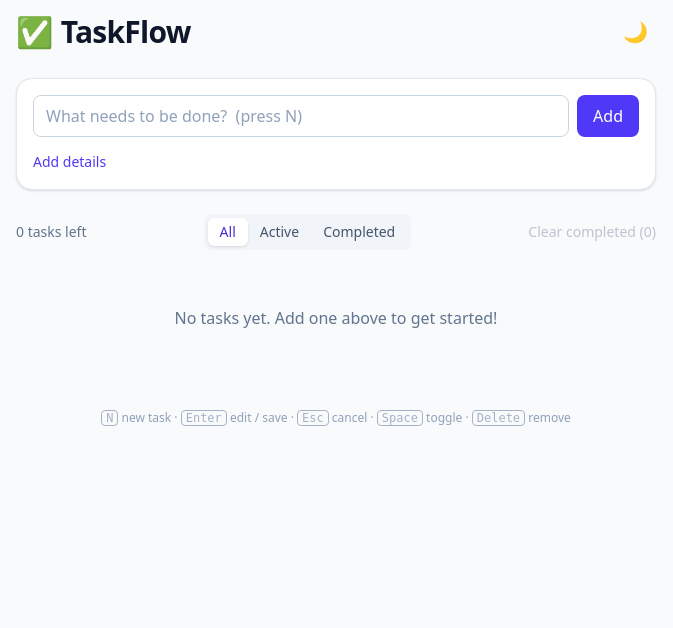
Test case: TaskFlow app › adds a task with description, priority, and due date
The image size is (673, 628).
Click the button "Add details".
click(70, 162)  # box [33,152,106,172]
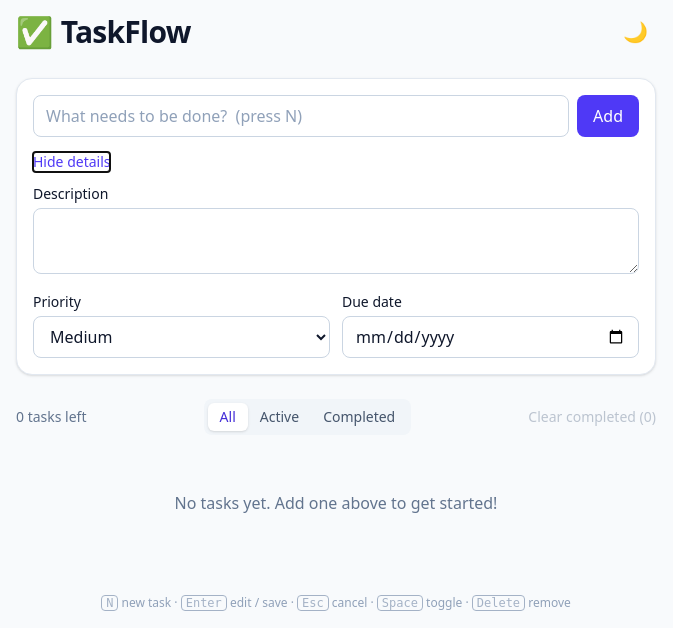
Type "Report" into the field named "New task".
click(301, 116); type("Report")  # box [33,95,569,137]
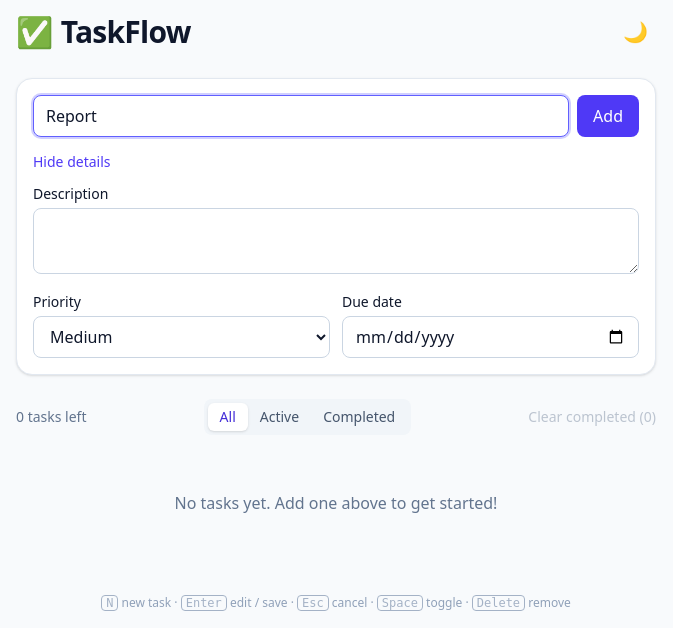
Type "Q3 numbers" into the text box labelled "Description".
click(336, 241); type("Q3 numbers")  # box [33,208,639,274]
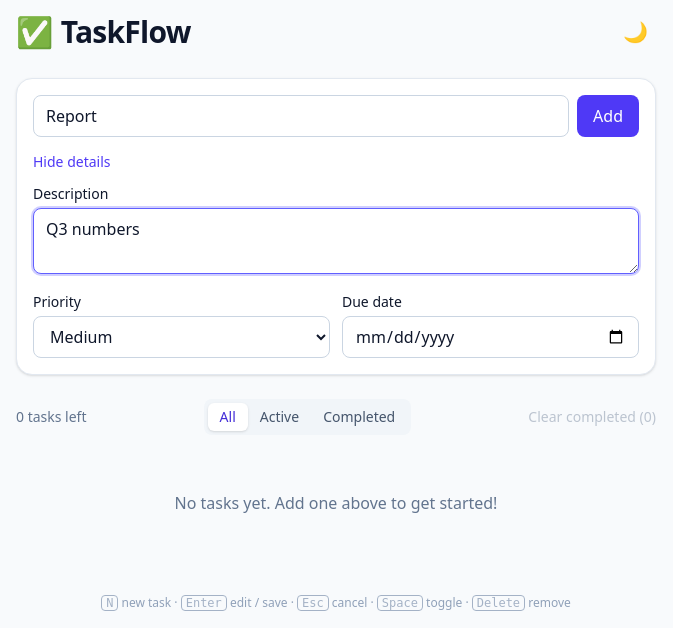
Select "High" in the dropdown labelled "Priority" at (182, 337), box [33,316,330,358]
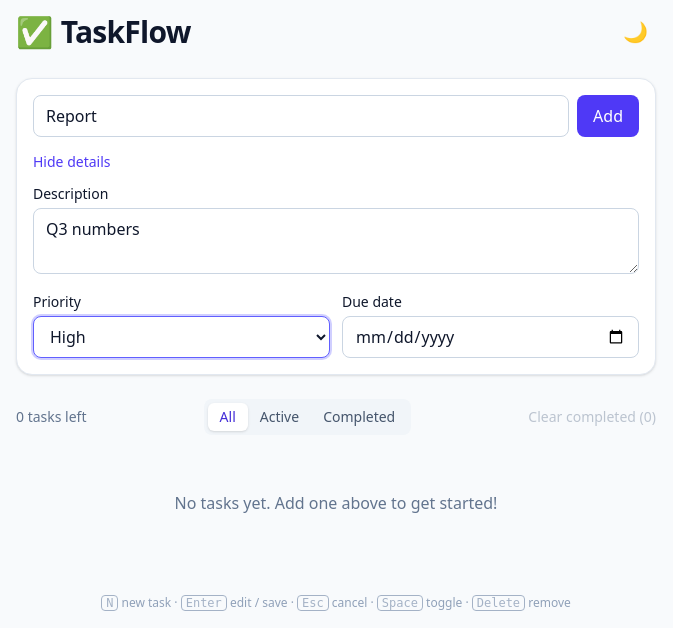
Type "2099-01-02" into the date field labelled "Due date".
click(490, 337); type("2099-01-02")  # box [342,316,639,358]
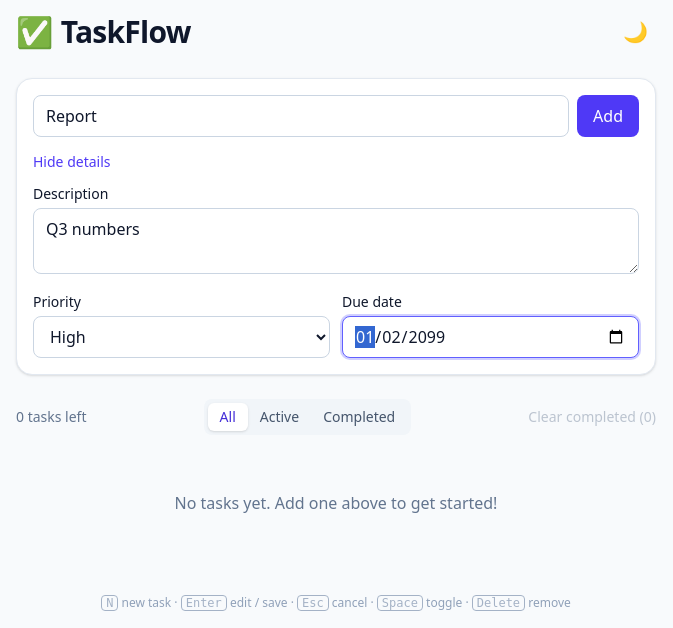
Click the button "Add".
click(608, 116)  # box [577,95,639,137]
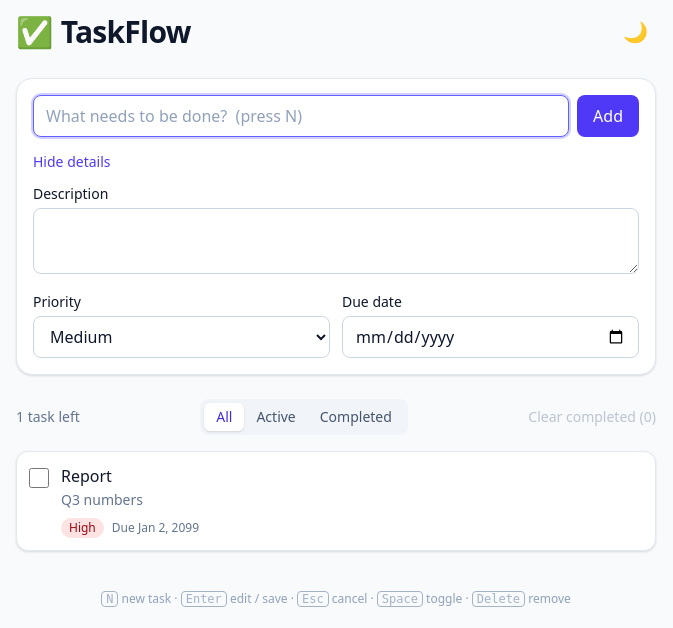
Check: the list item shows "Q3 numbers", box [61,490,143,509]
Check: the list item shows "high", box [69,519,96,536]
